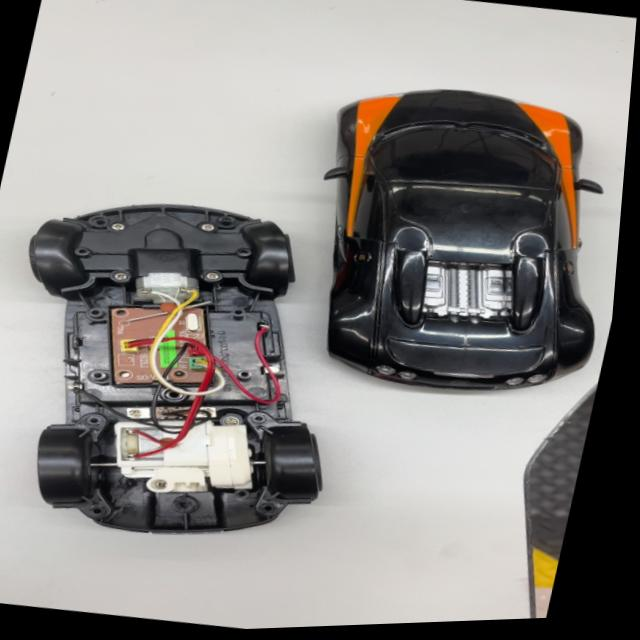Chassis: (0, 175, 376, 568)
motor_cover: (22, 179, 319, 326)
vehicle_body: (285, 71, 632, 415)
